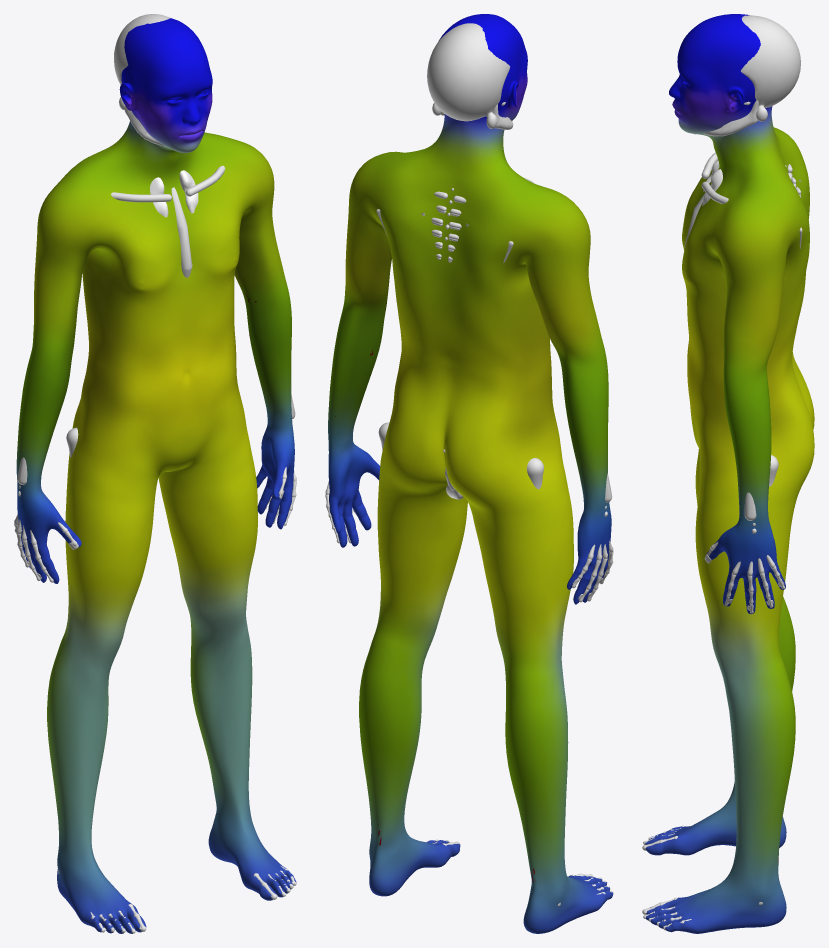
The model's file is pft-anatomy.glb.
3 views of the same model, side by side, from view 1: azimuth 30°, elevation 25°; view 2: azimuth 150°, elevation 25°; view 3: azimuth 270°, elevation 25° (orthographic).
Visible parts, largest first — view 1: Skin, Bones, Lungs; view 2: Skin, Bones; view 3: Skin, Bones.
Part boxes in pixels (left/top/right/bottom): Skin: left=16, top=18, right=296, bottom=933; Bones: left=14, top=14, right=296, bottom=933; Lungs: left=150, top=170, right=198, bottom=217; Skin: left=328, top=14, right=613, bottom=933; Bones: left=325, top=23, right=613, bottom=905; Skin: left=645, top=14, right=814, bottom=933; Bones: left=642, top=15, right=802, bottom=930.
Bounding box in the file's own units: 0.5718 × 1.71 × 0.3068.
